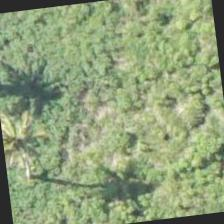Kelapa_Sawit: (0, 89, 70, 187)
